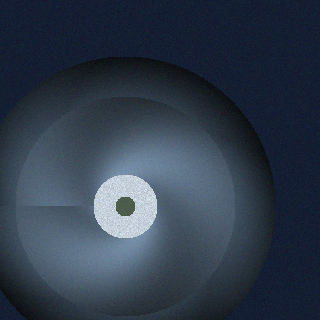cyclone_body: (9, 91, 240, 320)
cyclone_eye: (114, 195, 136, 217)
